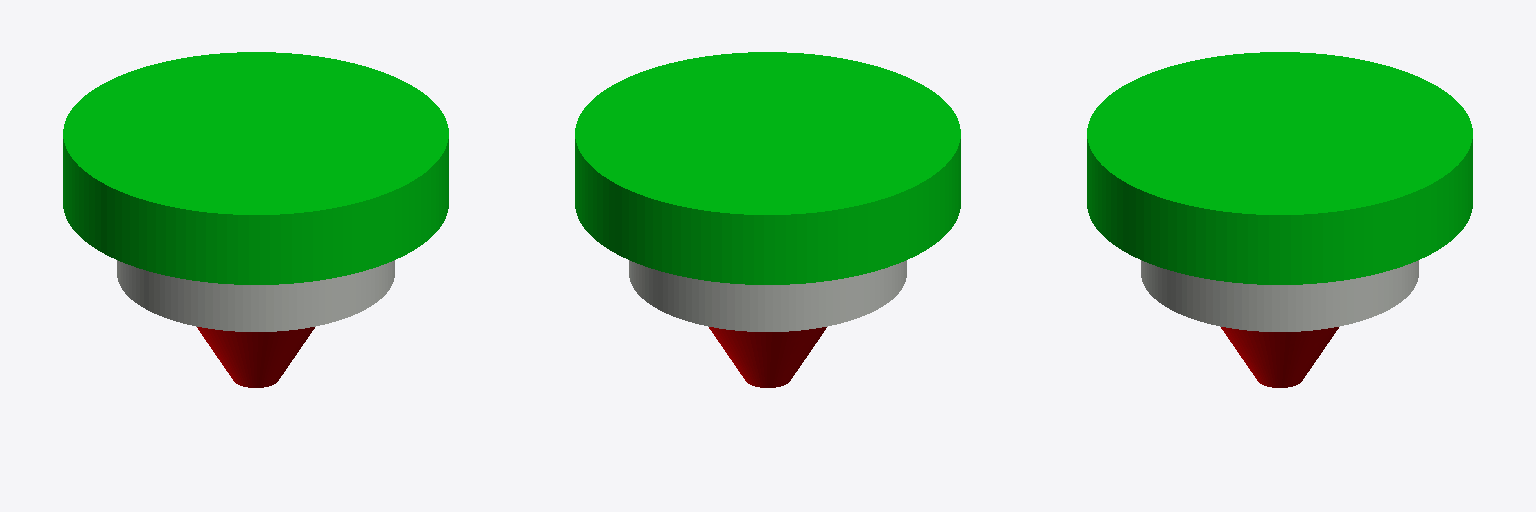
The model's file is TestBlade6.obj.
The picture shows the model from 3 angles: view 1: azimuth 30°, elevation 25°; view 2: azimuth 150°, elevation 25°; view 3: azimuth 270°, elevation 25°; orthographic projection.
Visible parts, largest first — view 1: TestBlade3-1, TestBlade3-2, TestBlade3-3; view 2: TestBlade3-1, TestBlade3-2, TestBlade3-3; view 3: TestBlade3-1, TestBlade3-2, TestBlade3-3.
Boxes of the visible parts, <box> form: TestBlade3-1: <box>63,52,448,284</box>; TestBlade3-2: <box>117,260,394,331</box>; TestBlade3-3: <box>197,327,314,387</box>; TestBlade3-1: <box>575,52,960,284</box>; TestBlade3-2: <box>629,260,906,331</box>; TestBlade3-3: <box>709,327,826,387</box>; TestBlade3-1: <box>1087,52,1472,284</box>; TestBlade3-2: <box>1141,260,1418,331</box>; TestBlade3-3: <box>1221,327,1338,387</box>.
Bounding box in the file's own units: 0.05 × 0.035 × 0.05.